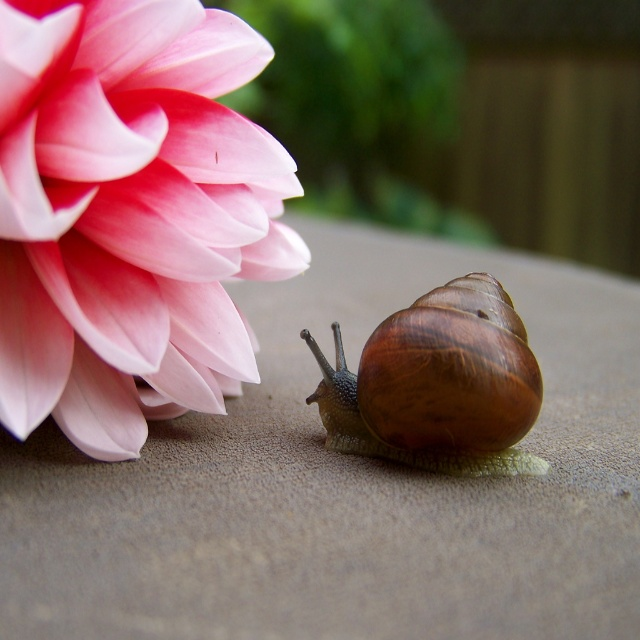Snail: (290, 267, 540, 466)
